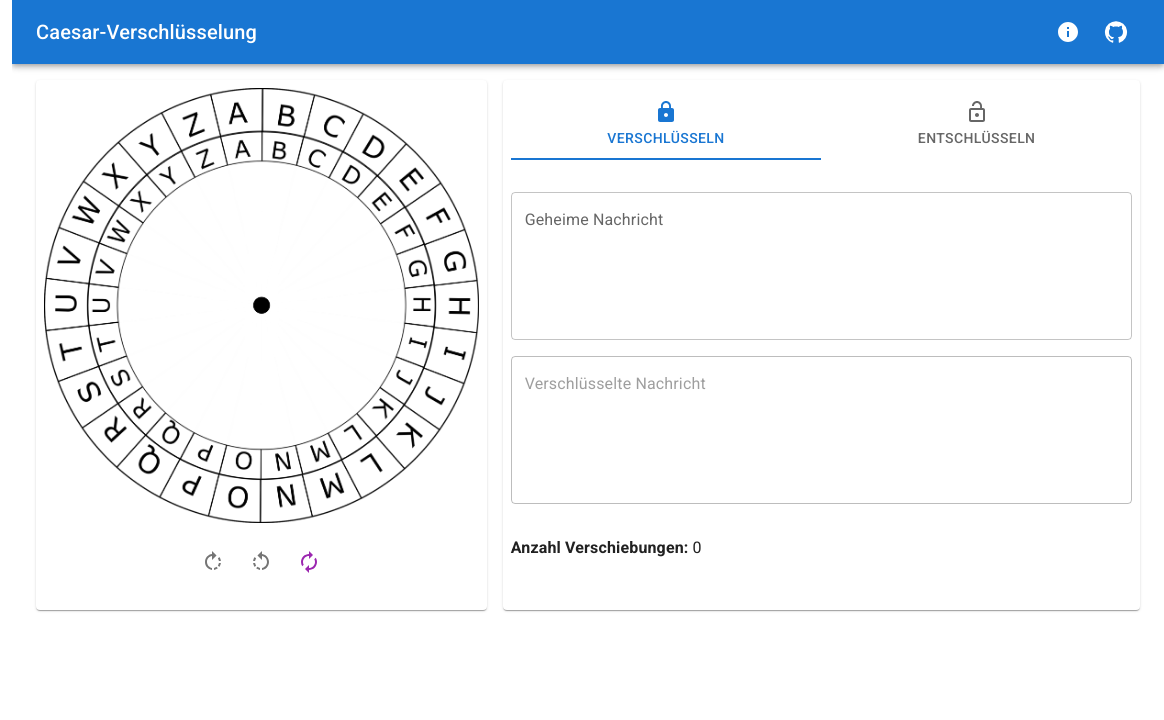
Test: rotate cipher disk counter-clockwise: encrypted message
In the text box labelled "Geheime Nachricht": (821, 266) [525,208,1118,324], type "ABC"
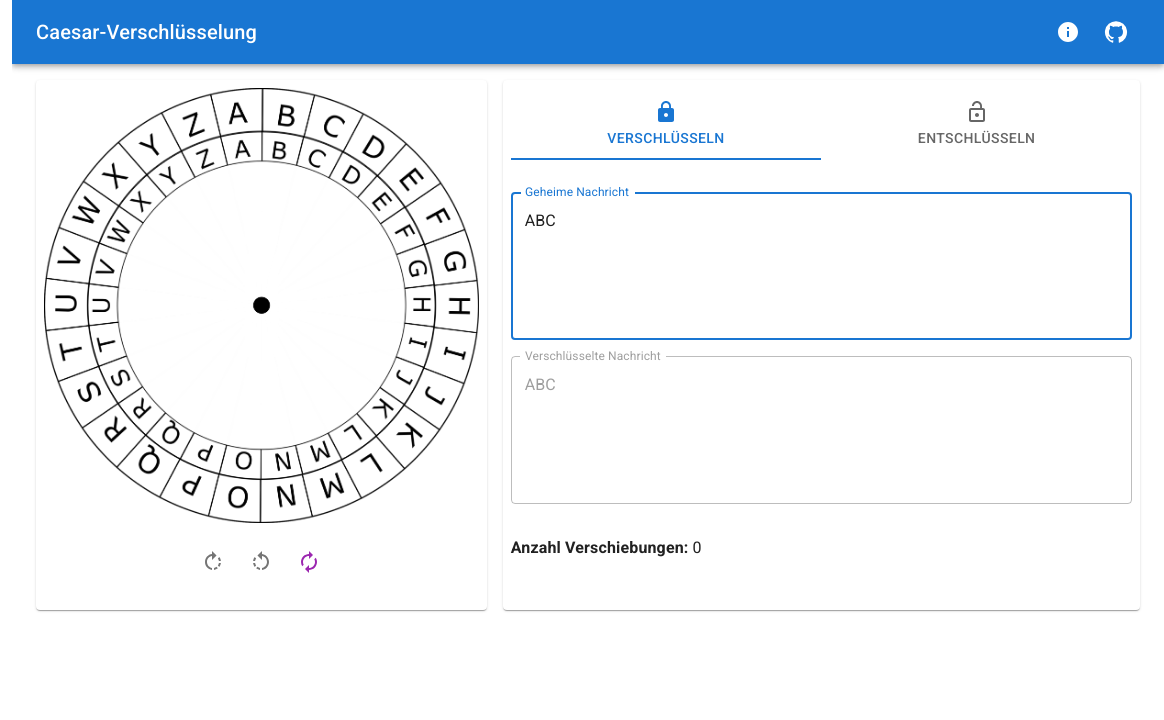
Click the button named "Gegen den Uhrzeigersinn": click(261, 562) [237,538,285,586]
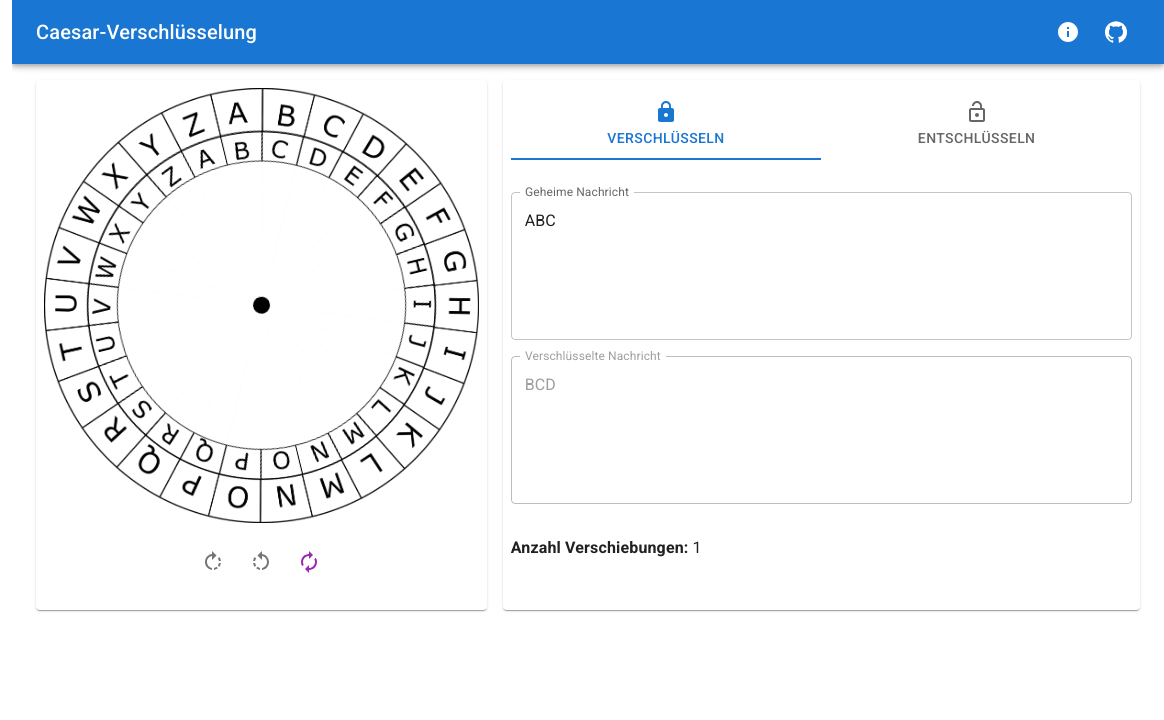
Expected: the text box labelled "Verschlüsselte Nachricht" holds "BCD", [525,372,1118,488]
